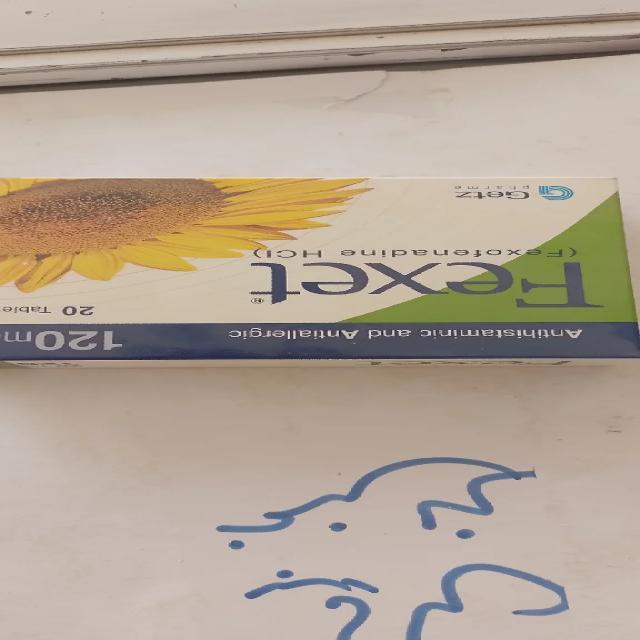drug-name: (245, 259, 610, 311)
